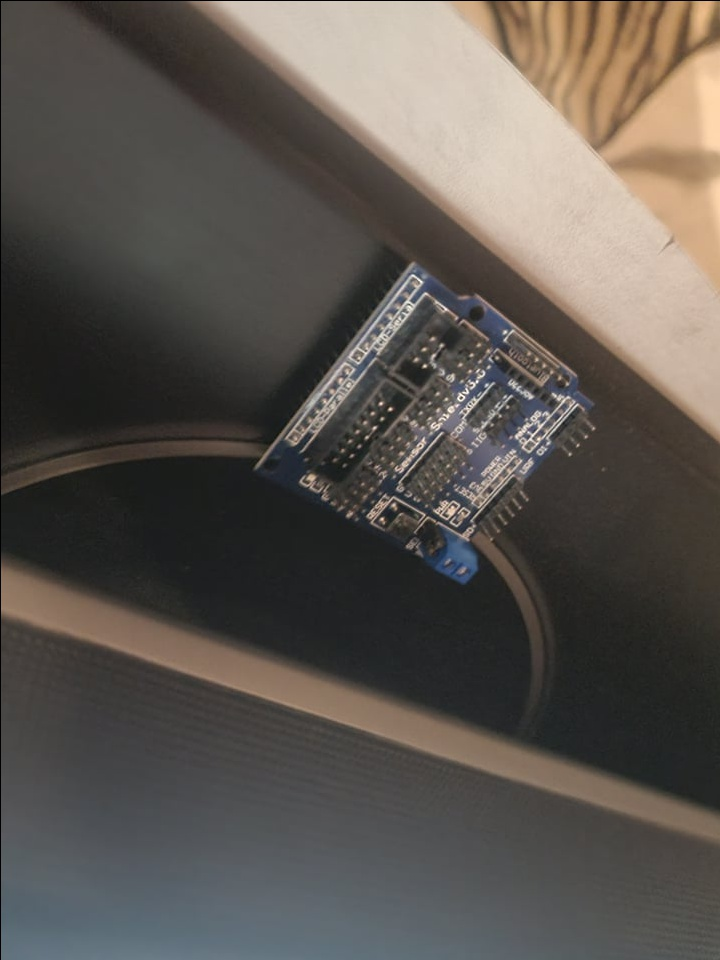5V EXPANSION: (247, 256, 598, 583)
